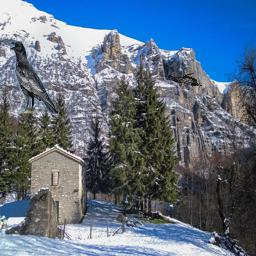Crow: (10, 42, 58, 115), (164, 72, 203, 86)
